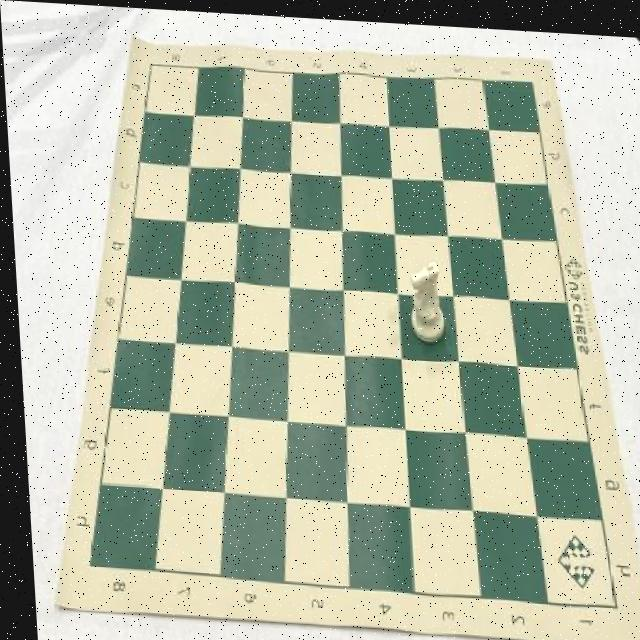white-king: (402, 254, 442, 339)
